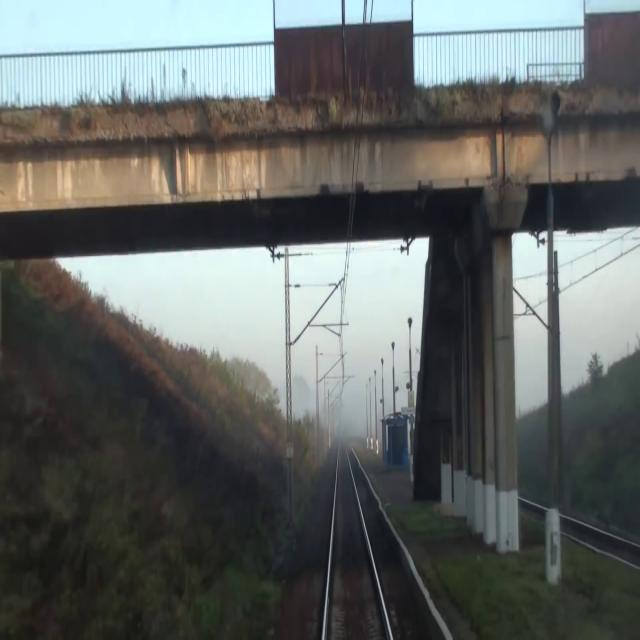rail-track: (327, 443, 388, 639), (562, 520, 640, 561), (517, 501, 545, 517)
